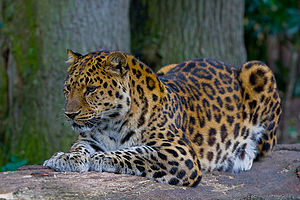amur_leopard: (45, 34, 285, 192)
